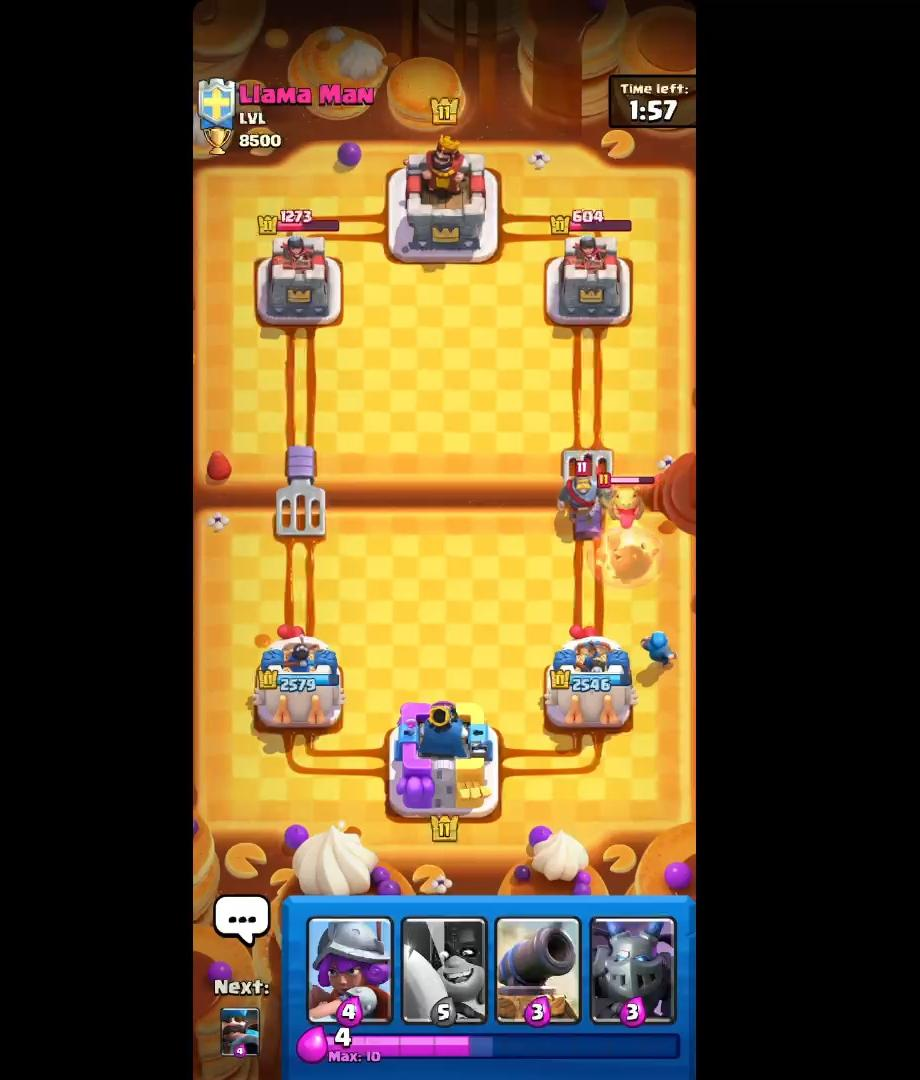Baby Dragon: (597, 466, 658, 529)
Knight: (559, 459, 607, 529)
